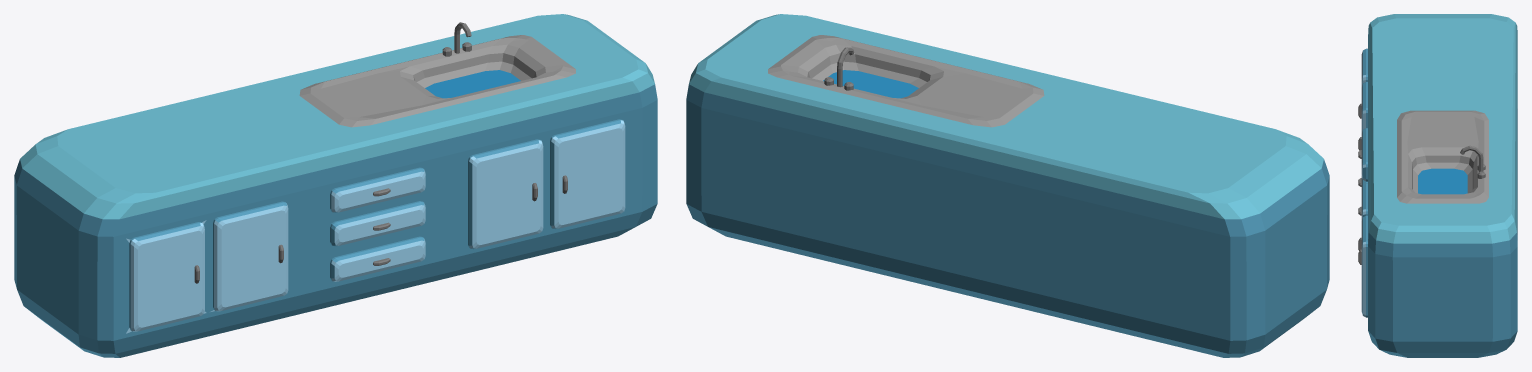
File: KitchenSink.fbx
3 renders of one model, left to right at view 1: azimuth 30°, elevation 25°; view 2: azimuth 150°, elevation 25°; view 3: azimuth 270°, elevation 25°, orthographic. The views are drawn at different scales.
Parts seen in each view (by area): view 1: KitchenSink; view 2: KitchenSink; view 3: KitchenSink.
Boxes of the visible parts, x1=… form: KitchenSink: x1=14, y1=14, x2=657, y2=357; KitchenSink: x1=686, y1=14, x2=1329, y2=357; KitchenSink: x1=1358, y1=14, x2=1517, y2=357.
Bounding box in the file's own units: 2.6 × 0.8724 × 0.7665.
1 material, 1 textured.
